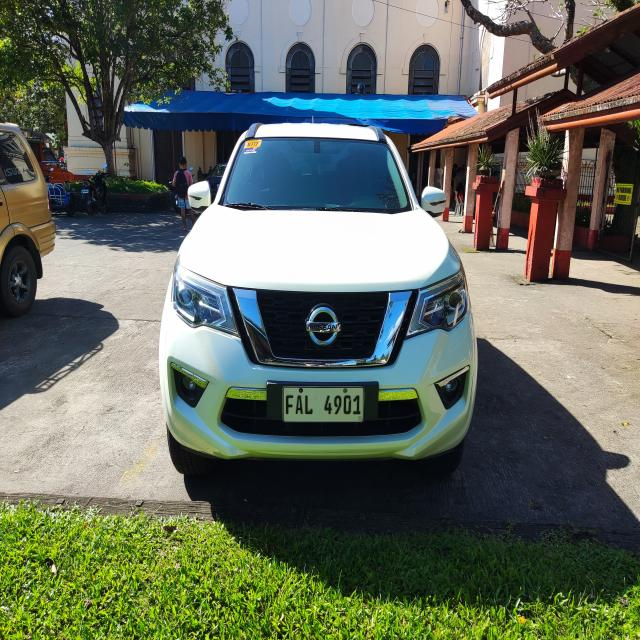plate: (280, 384, 366, 424)
